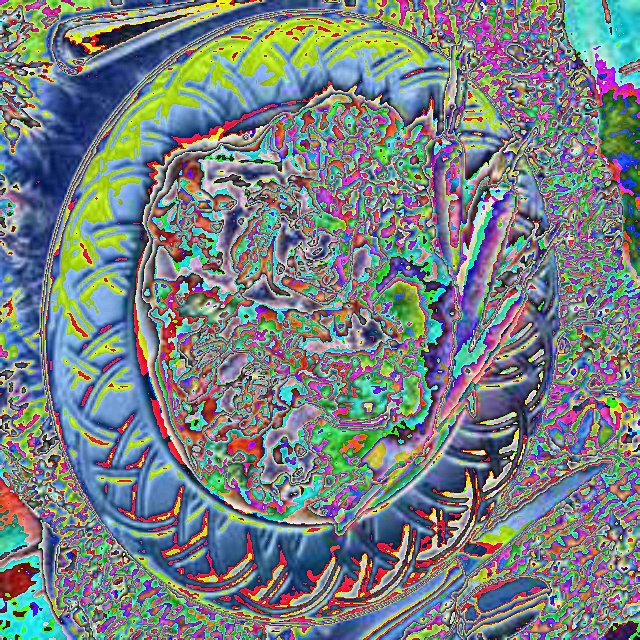background: (143, 38, 564, 537)
